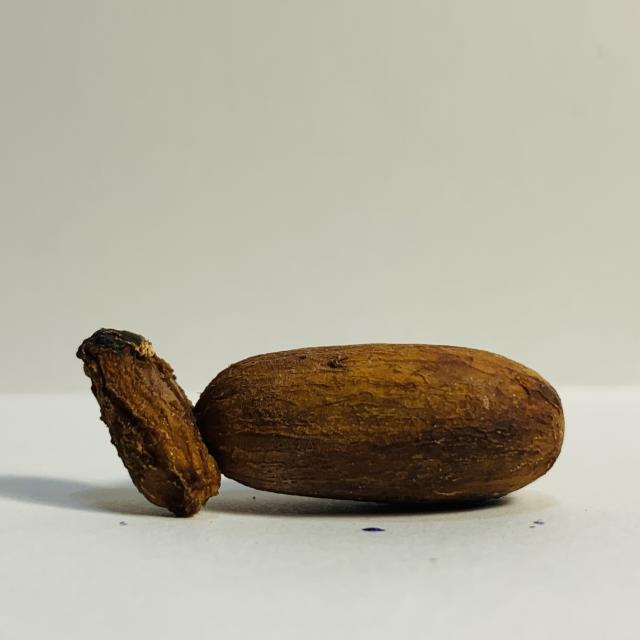Agglomerated_cocoabeans: (0, 299, 596, 557)
